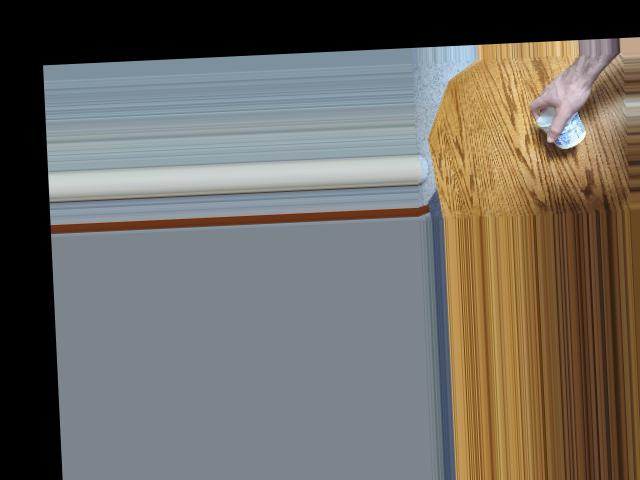cotage: (534, 105, 592, 151)
